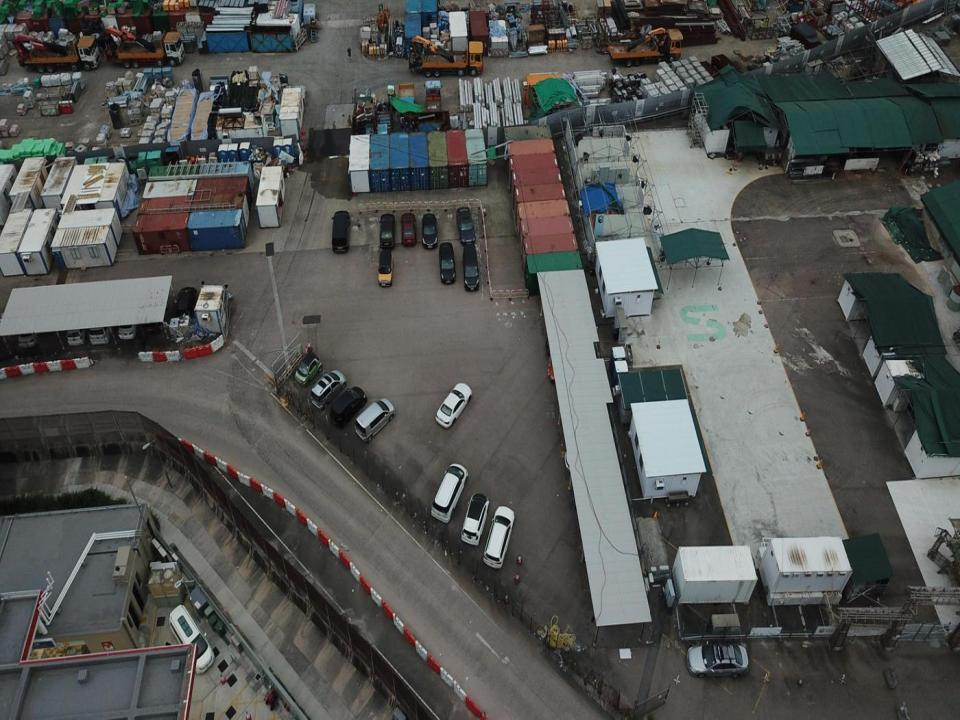car: (168, 603, 214, 674), (683, 637, 752, 680), (430, 462, 470, 524), (482, 506, 516, 569), (435, 380, 474, 430), (352, 398, 396, 442), (311, 369, 347, 419), (329, 384, 366, 432), (460, 491, 490, 549), (460, 239, 481, 290), (294, 351, 321, 387), (438, 240, 458, 288), (330, 209, 350, 255), (142, 300, 167, 336), (86, 312, 111, 346), (454, 203, 474, 244), (378, 210, 398, 250), (64, 313, 86, 348), (175, 287, 197, 321), (114, 310, 136, 342), (16, 318, 38, 349), (421, 211, 438, 250), (376, 251, 394, 286), (399, 209, 416, 246)
truck: (102, 23, 184, 68), (12, 30, 103, 70), (409, 34, 486, 79), (608, 28, 685, 68)
